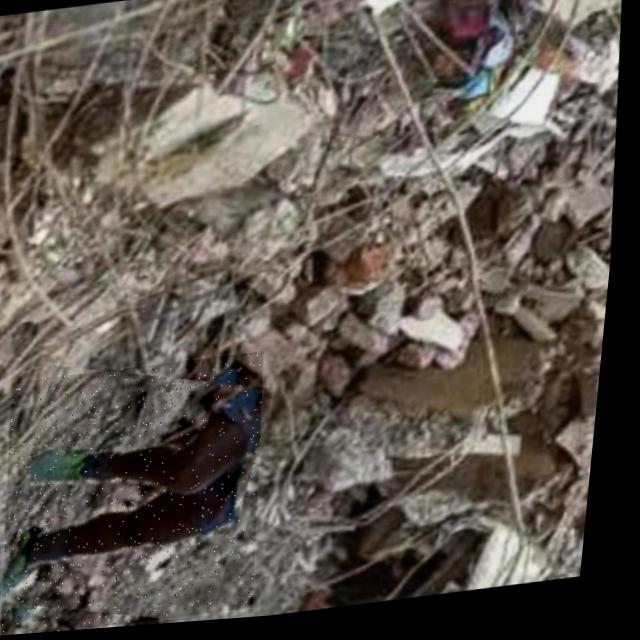Person in Rubble: (0, 355, 284, 637)
